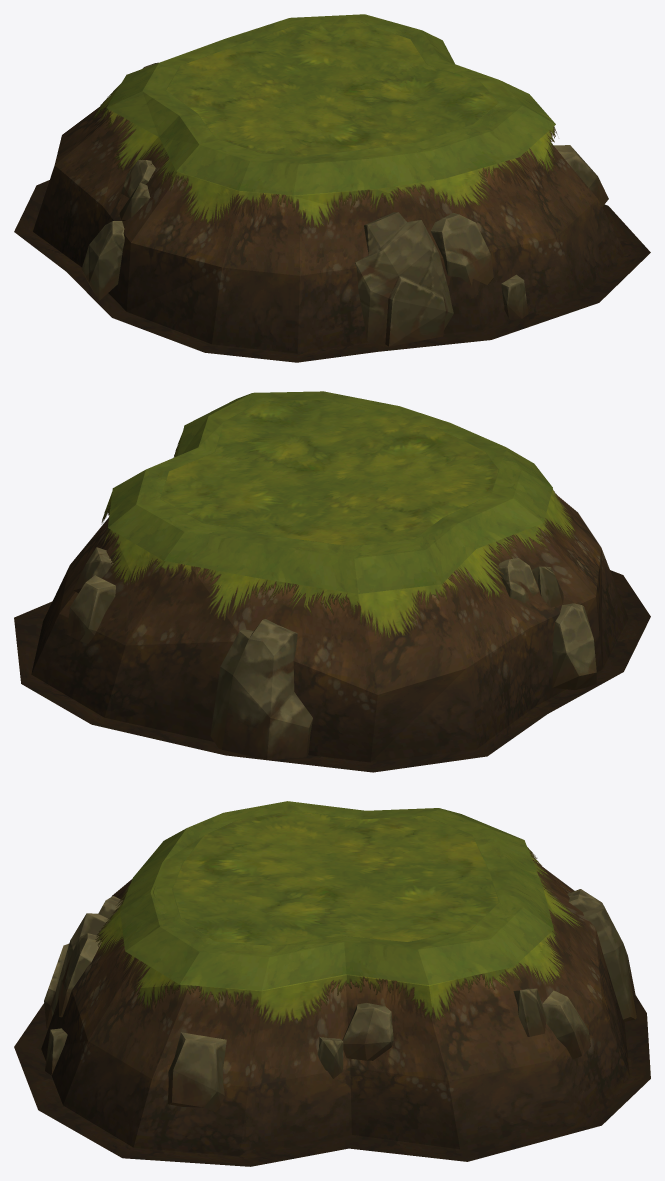
File: riverbed_mesa_02.fbx
3 renders of one model, top to bottom at view 1: azimuth 30°, elevation 25°; view 2: azimuth 150°, elevation 25°; view 3: azimuth 270°, elevation 25°, orthographic. The views are drawn at different scales.
Parts seen in each view (by area): view 1: obj3.012; view 2: obj3.012; view 3: obj3.012.
Boxes of the visible parts, x1,y1,x2,y2 form: obj3.012: (14,14,650,362); obj3.012: (14,391,650,772); obj3.012: (14,801,650,1166).
Bounding box in the file's own units: 14.24 × 4.56 × 14.79.
